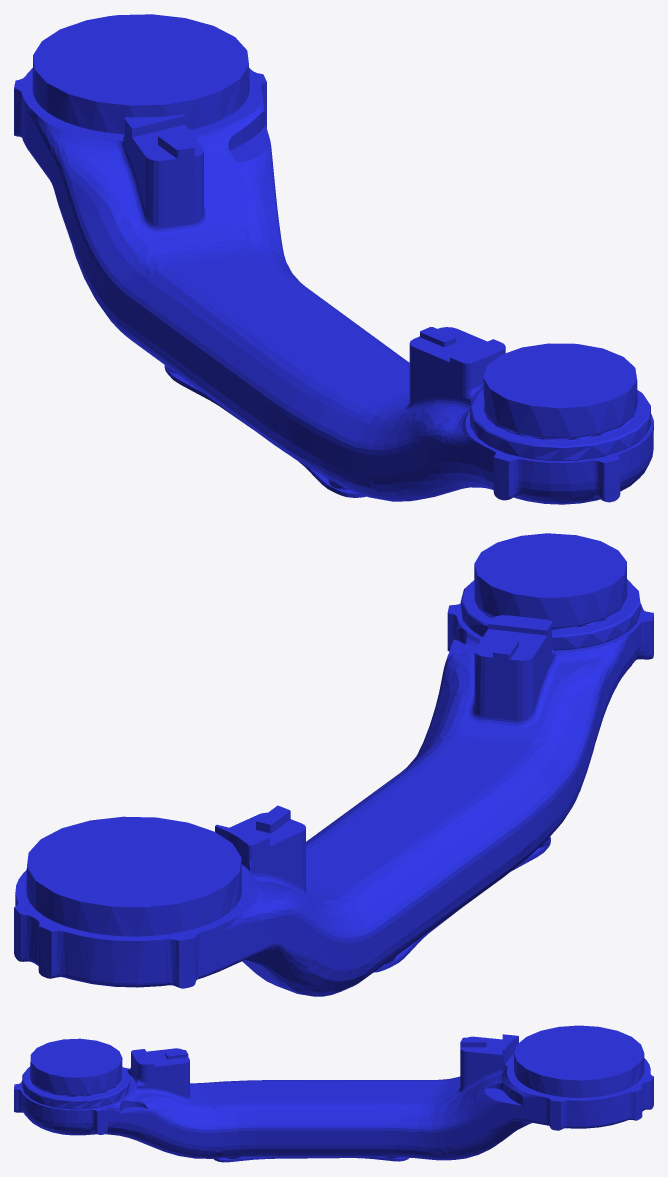
3 renders of one model, top to bottom at view 1: azimuth 30°, elevation 25°; view 2: azimuth 150°, elevation 25°; view 3: azimuth 270°, elevation 25°, orthographic. The views are drawn at different scales.
Parts seen in each view (by area): view 1: /Link2/Link2-mesh/0; view 2: /Link2/Link2-mesh/0; view 3: /Link2/Link2-mesh/0.
Boxes of the visible parts, x1,y1,x2,y2 form: /Link2/Link2-mesh/0: [14, 14, 653, 504]; /Link2/Link2-mesh/0: [14, 533, 653, 996]; /Link2/Link2-mesh/0: [14, 1025, 653, 1162].
Bounding box in the file's own units: 0.2003 × 0.1472 × 0.7813.
